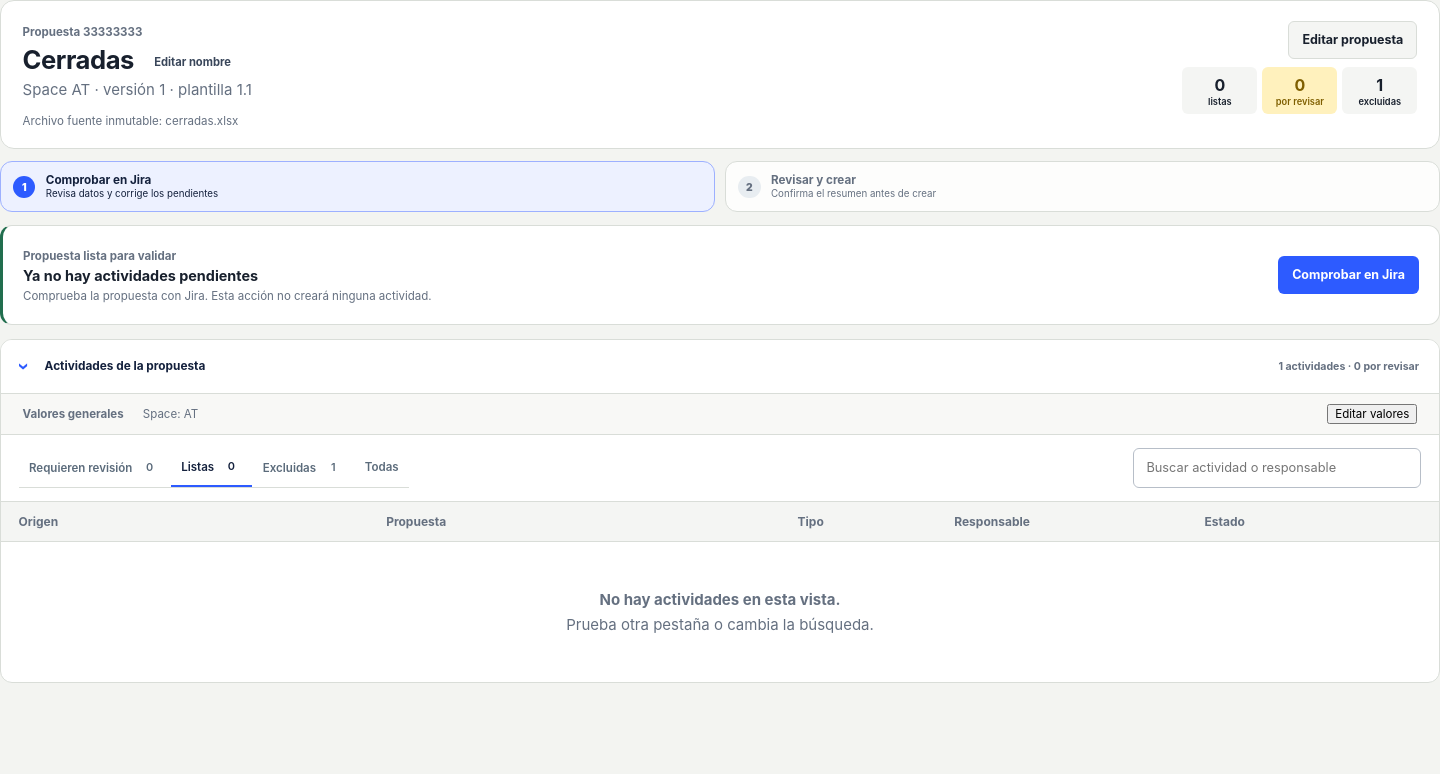
Test: App › reactiva una actividad excluida y la devuelve a revisión con auditoría
Click the tab "Excluidas 1".
click(304, 467)  # box [252, 448, 354, 487]
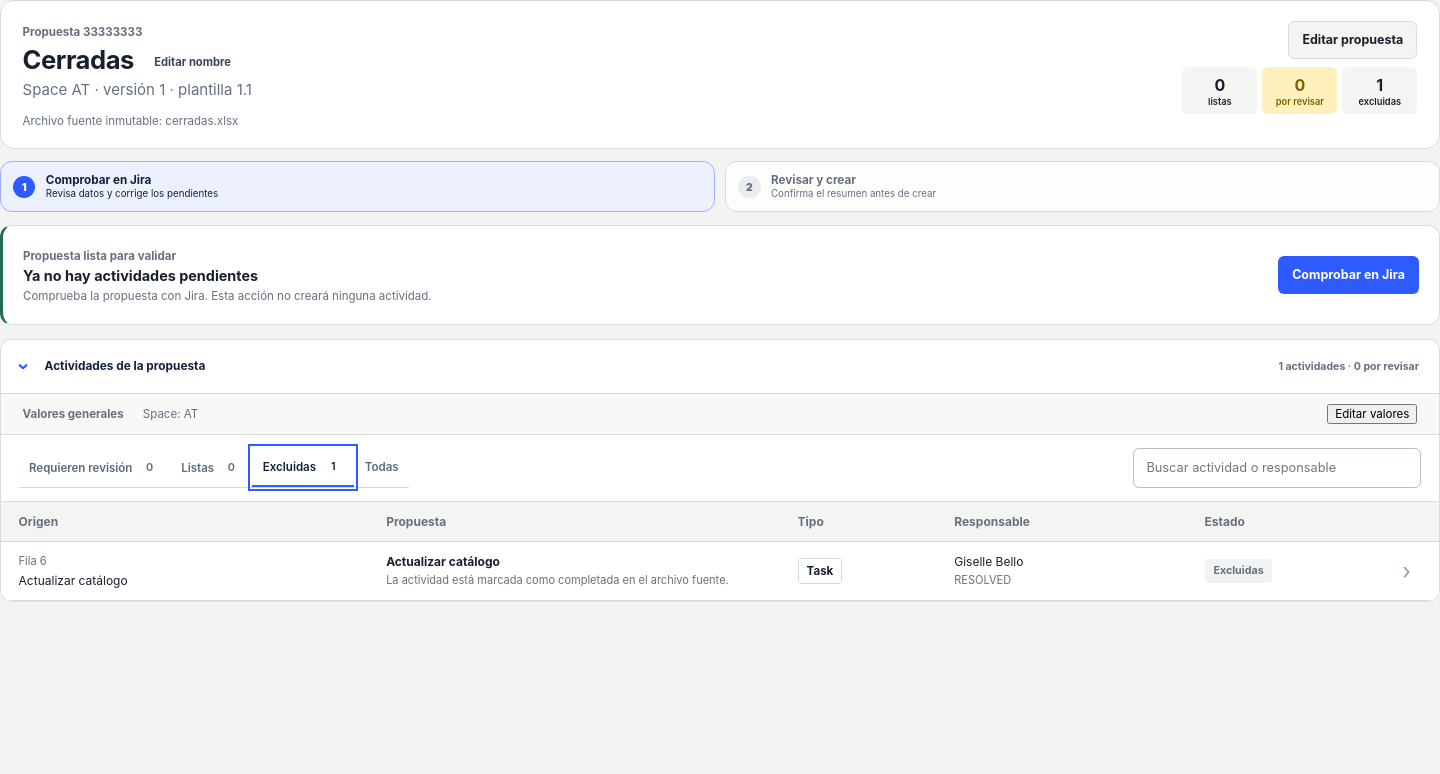
Click the row "Actualizar catálogo".
click(720, 571)  # box [1, 542, 1439, 601]
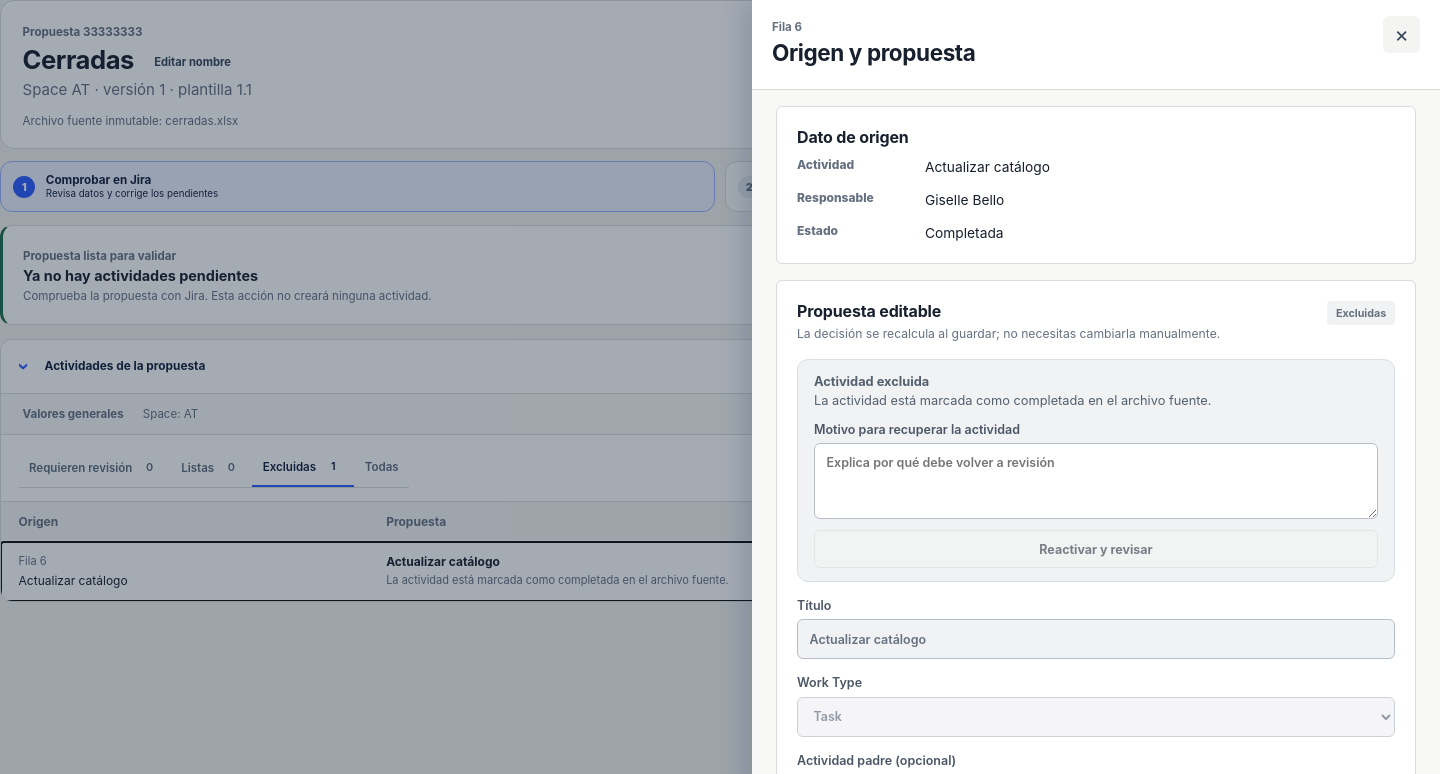
Type "Continúa vigente por decisión del comité" into the text box labelled "Motivo para recuperar la actividad".
click(1096, 481); type("Continúa vigente por decisión del comité")  # box [814, 443, 1378, 519]
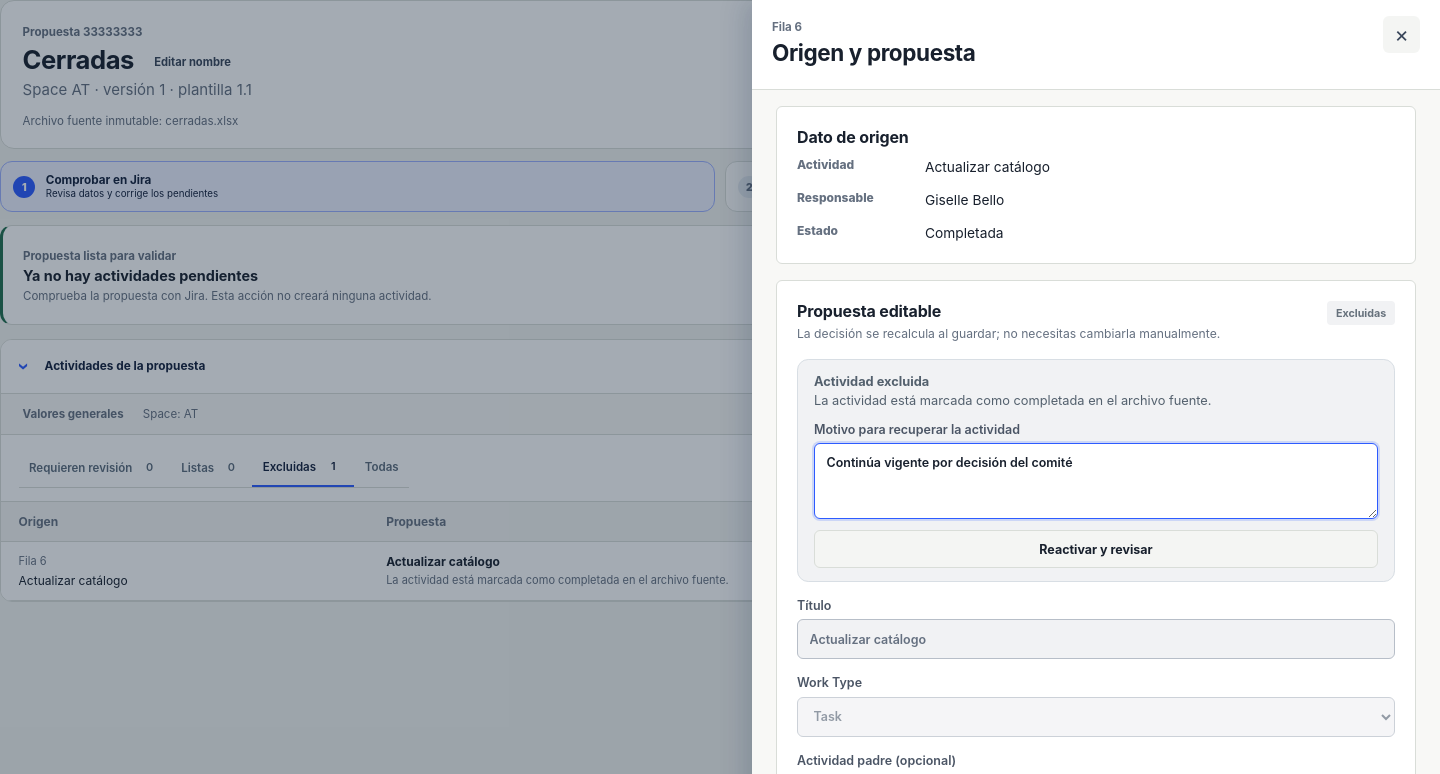
Click the button "Reactivar y revisar".
click(1096, 549)  # box [814, 530, 1378, 568]
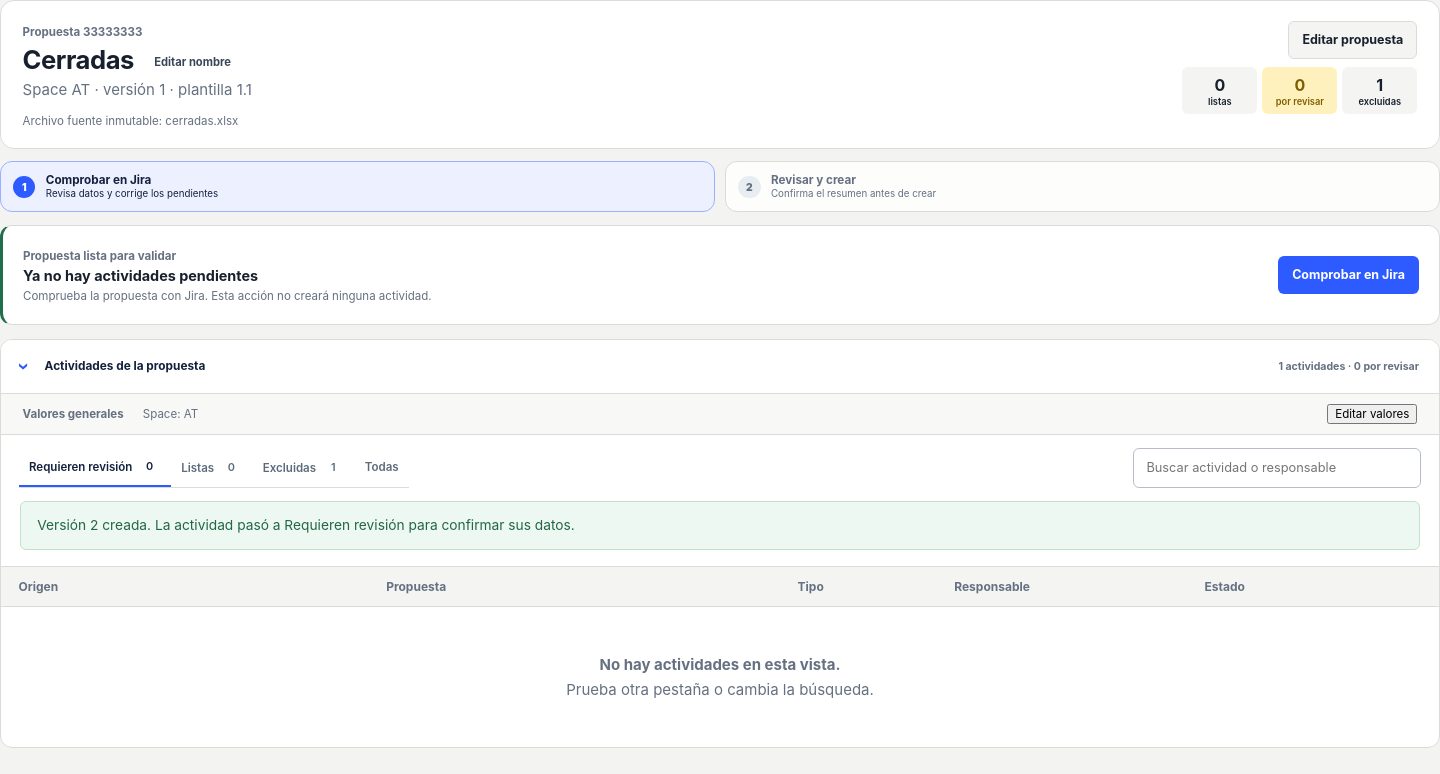
Check: the text "pasó a Requieren revisión" is shown, box [37, 516, 575, 532]
